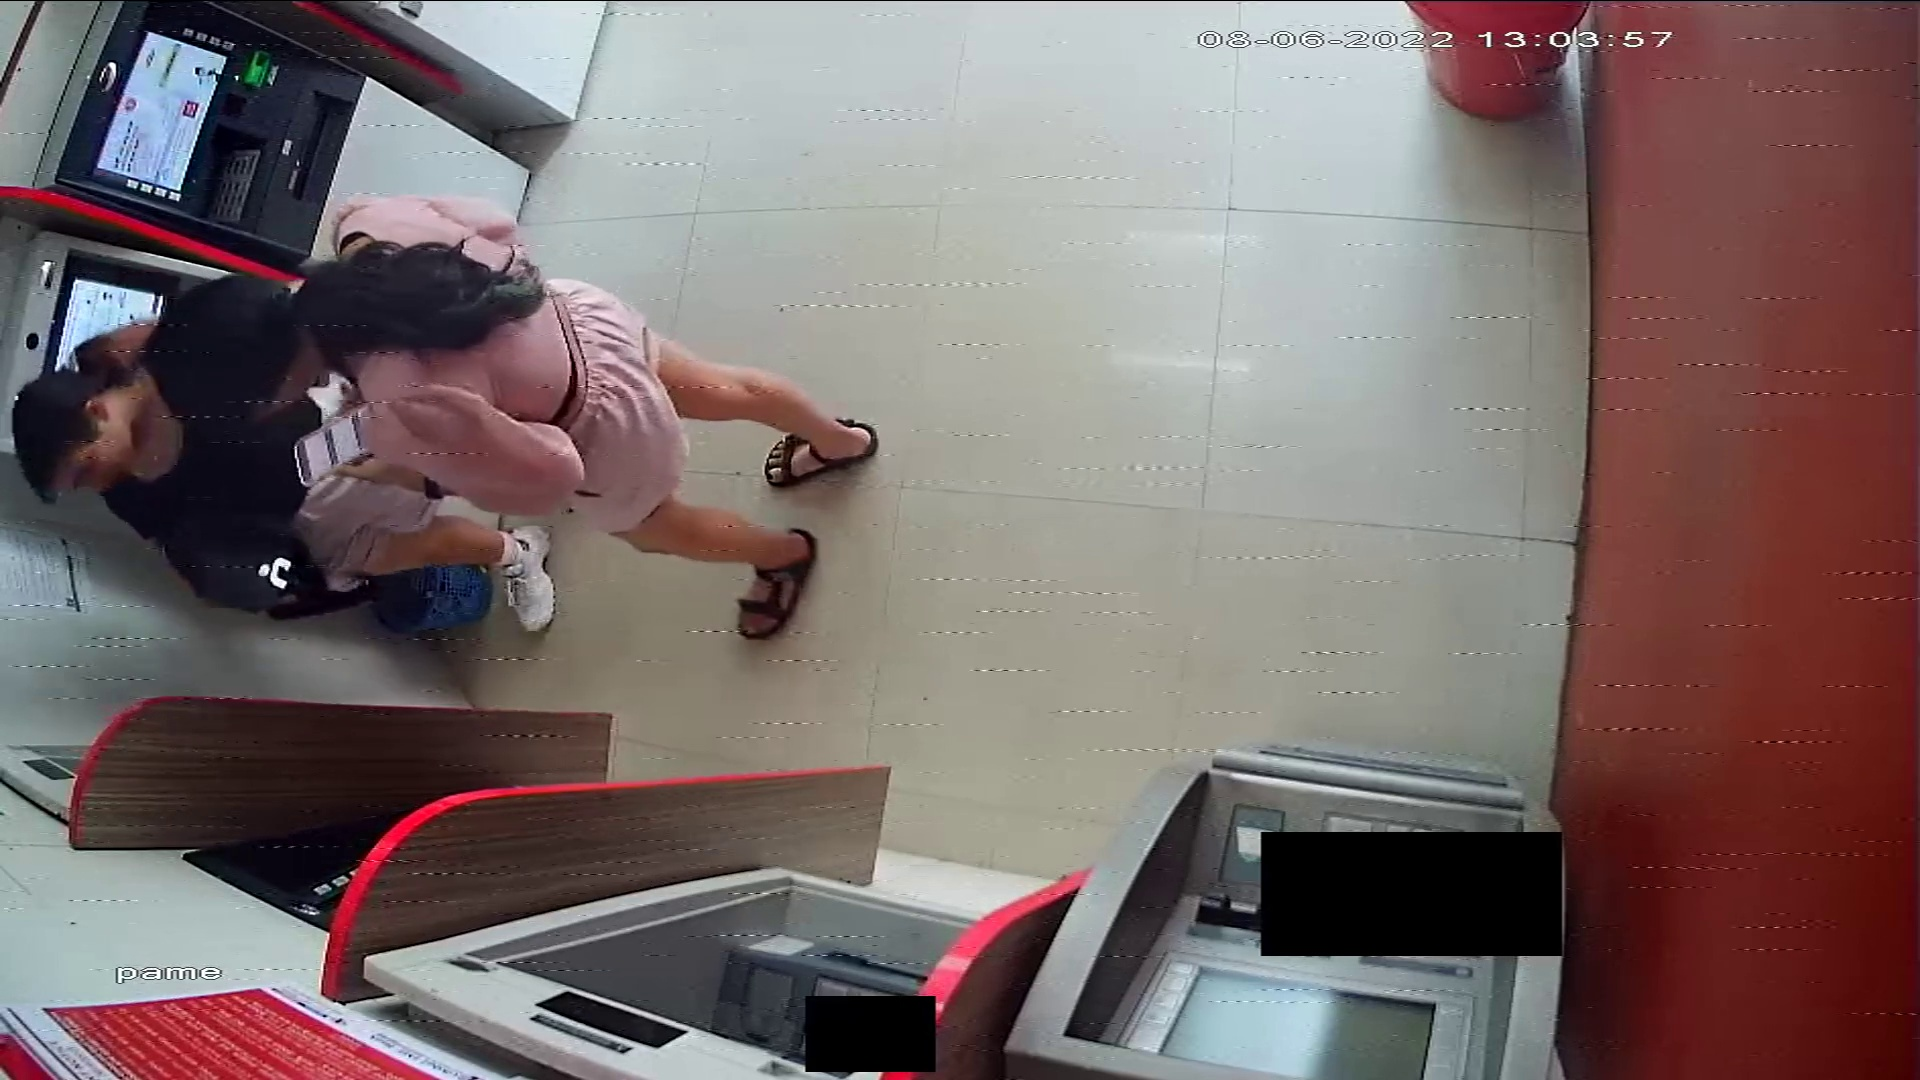person: (149, 194, 883, 644), (12, 336, 578, 630)
phone: (286, 408, 378, 484)
